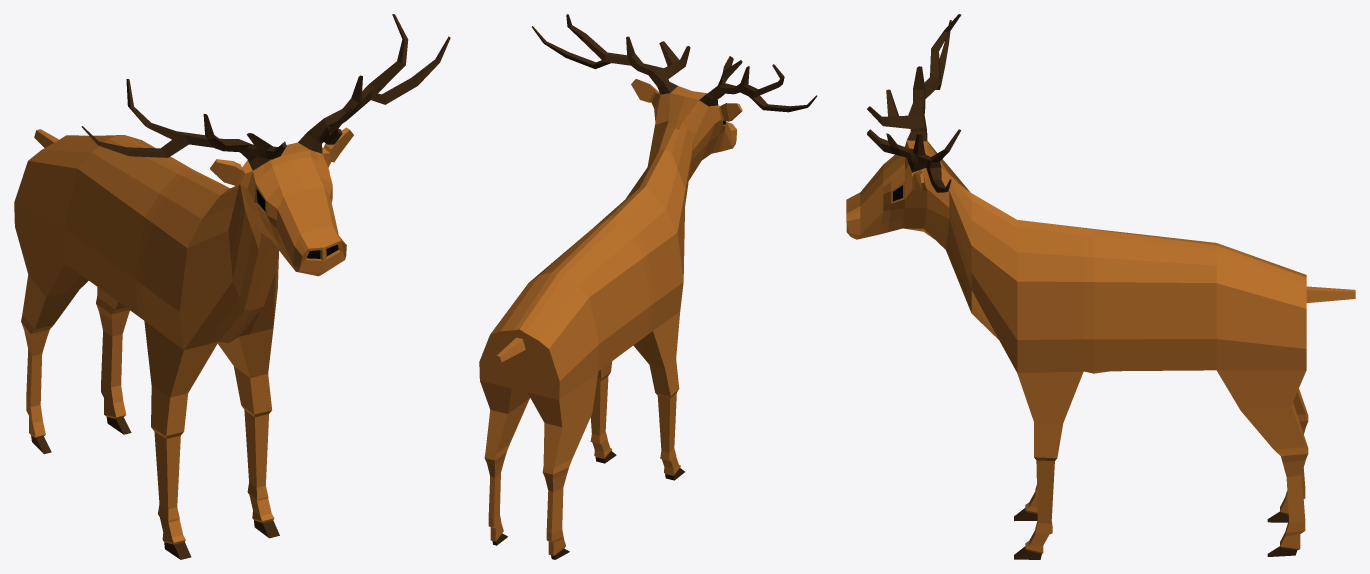
File: obj_deer.fbx
3 views of the same model, side by side, from view 1: azimuth 30°, elevation 25°; view 2: azimuth 150°, elevation 25°; view 3: azimuth 270°, elevation 25° (orthographic). The views are drawn at different scales.
Visible parts, largest first — view 1: char_deer_body; view 2: char_deer_body; view 3: char_deer_body.
Part boxes in pixels (<box>): char_deer_body: <box>14,14,450,559</box>; char_deer_body: <box>479,14,817,559</box>; char_deer_body: <box>846,14,1355,559</box>.
Bounding box in the file's own units: 336 × 457 × 452.
